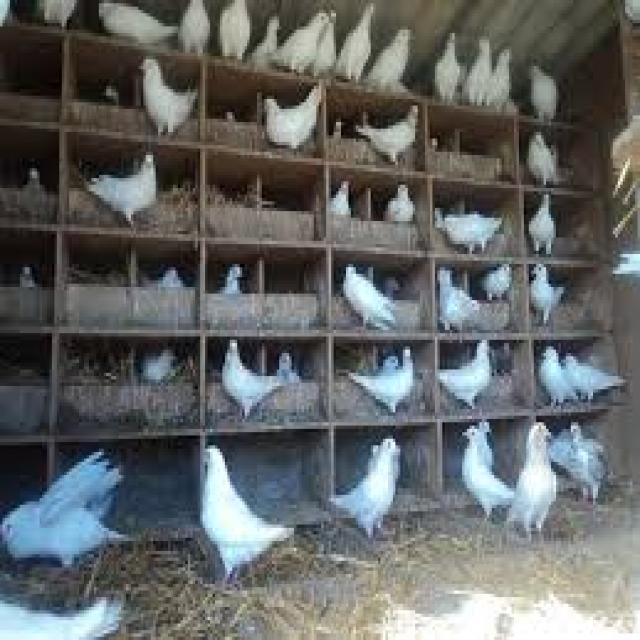pigeon: (2, 438, 140, 591), (184, 425, 297, 587), (333, 427, 411, 554), (130, 59, 204, 147)
